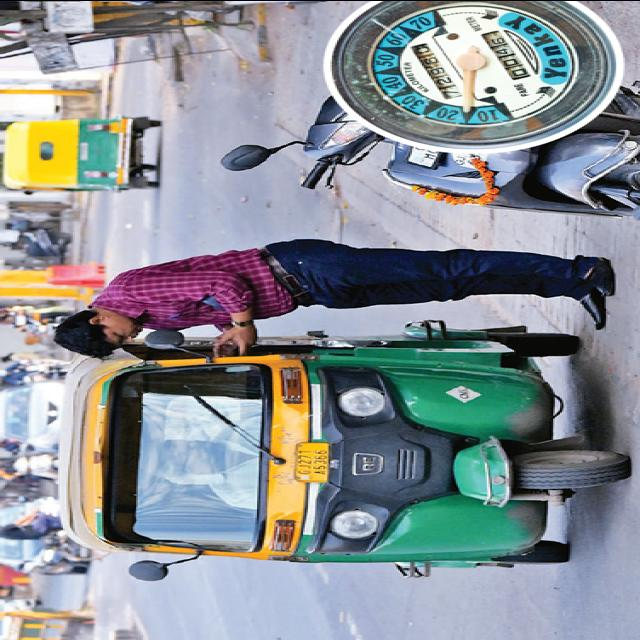Autorickshaw: (34, 316, 633, 577)
